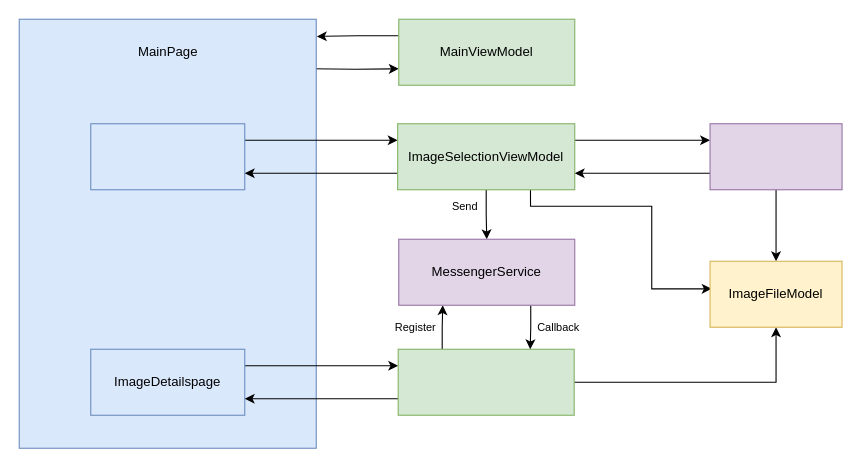
The diagram is 861 pixels wide and 468 high, and some of its shapes have lost their labels. Each missing label, with the centre of its shape:
ImageDetailsViewModel: the point at 485,381
ImageFileService: the point at 775,156
ImageSelectionPage: the point at 167,156
